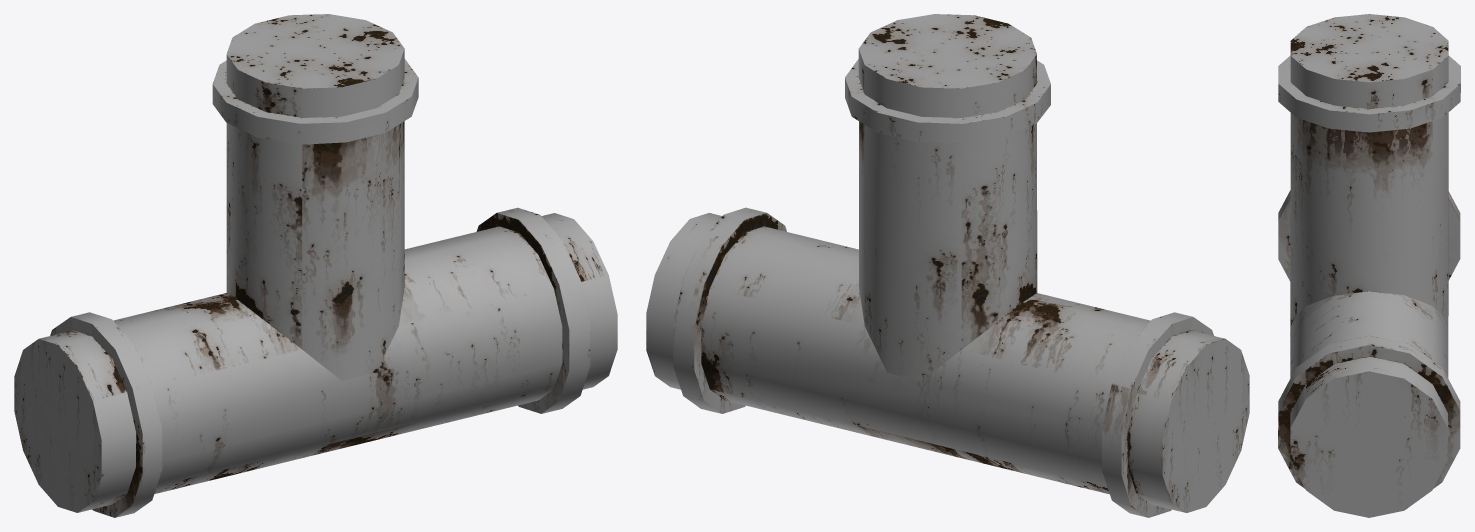
File: T_Pipe.fbx
3 views of the same model, side by side, from view 1: azimuth 30°, elevation 25°; view 2: azimuth 150°, elevation 25°; view 3: azimuth 270°, elevation 25° (orthographic). The views are drawn at different scales.
Parts seen in each view (by area): view 1: T_Pipe; view 2: T_Pipe; view 3: T_Pipe.
Boxes of the visible parts, x1=… form: T_Pipe: x1=14, y1=14, x2=617, y2=517; T_Pipe: x1=646, y1=14, x2=1249, y2=517; T_Pipe: x1=1278, y1=14, x2=1460, y2=517.
Bounding box in the file's own units: 6.67 × 5 × 2.26.
Materials: 1 (1 with a texture image).
